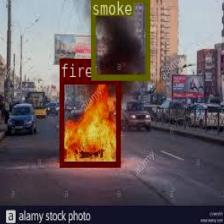fire: (60, 78, 120, 166)
smoke: (90, 0, 148, 80)
